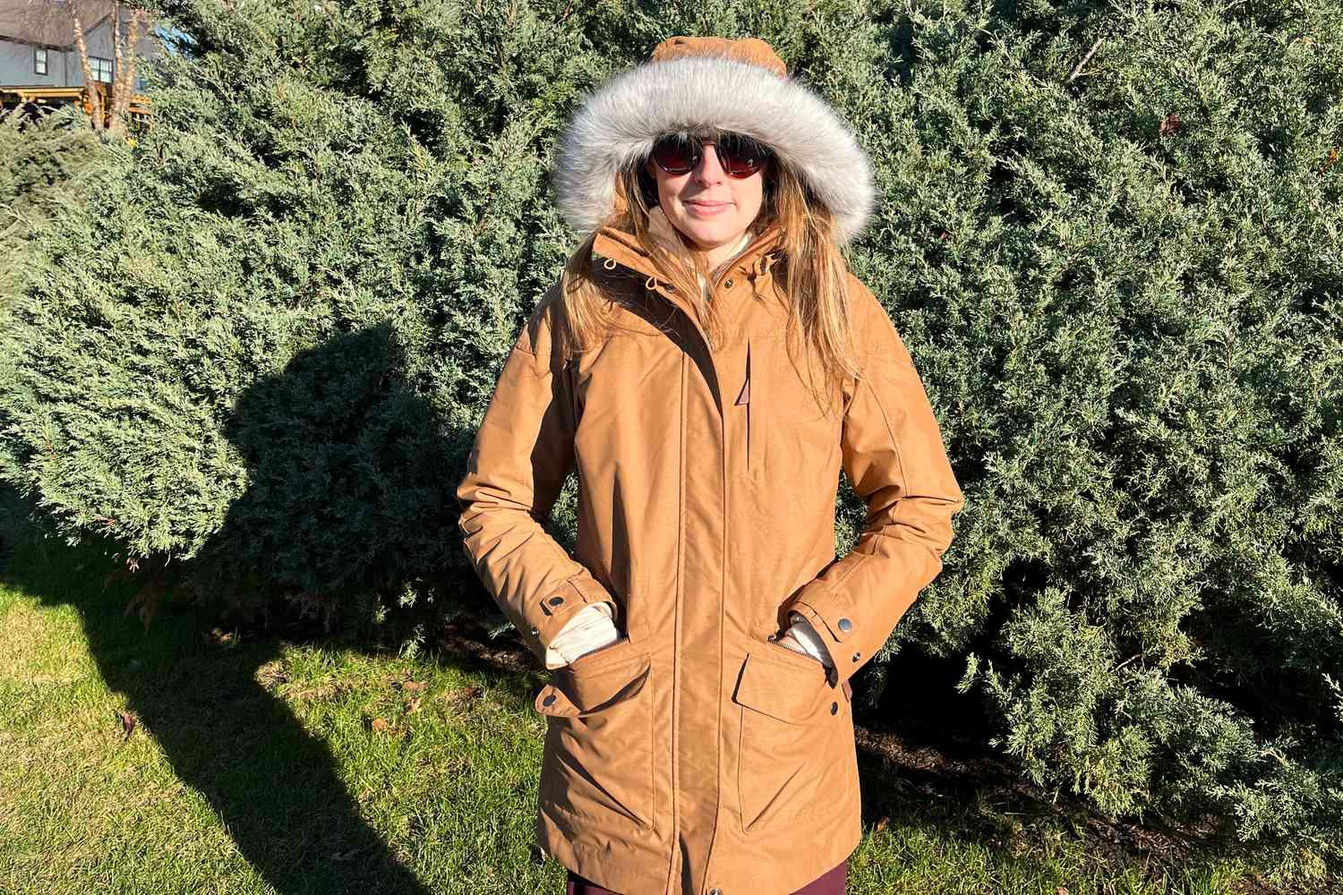coat: (449, 35, 967, 895)
